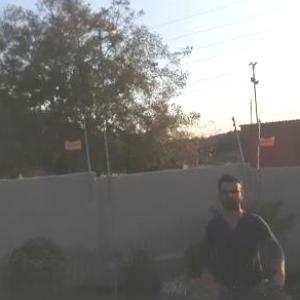follow: (193, 168, 293, 299)
